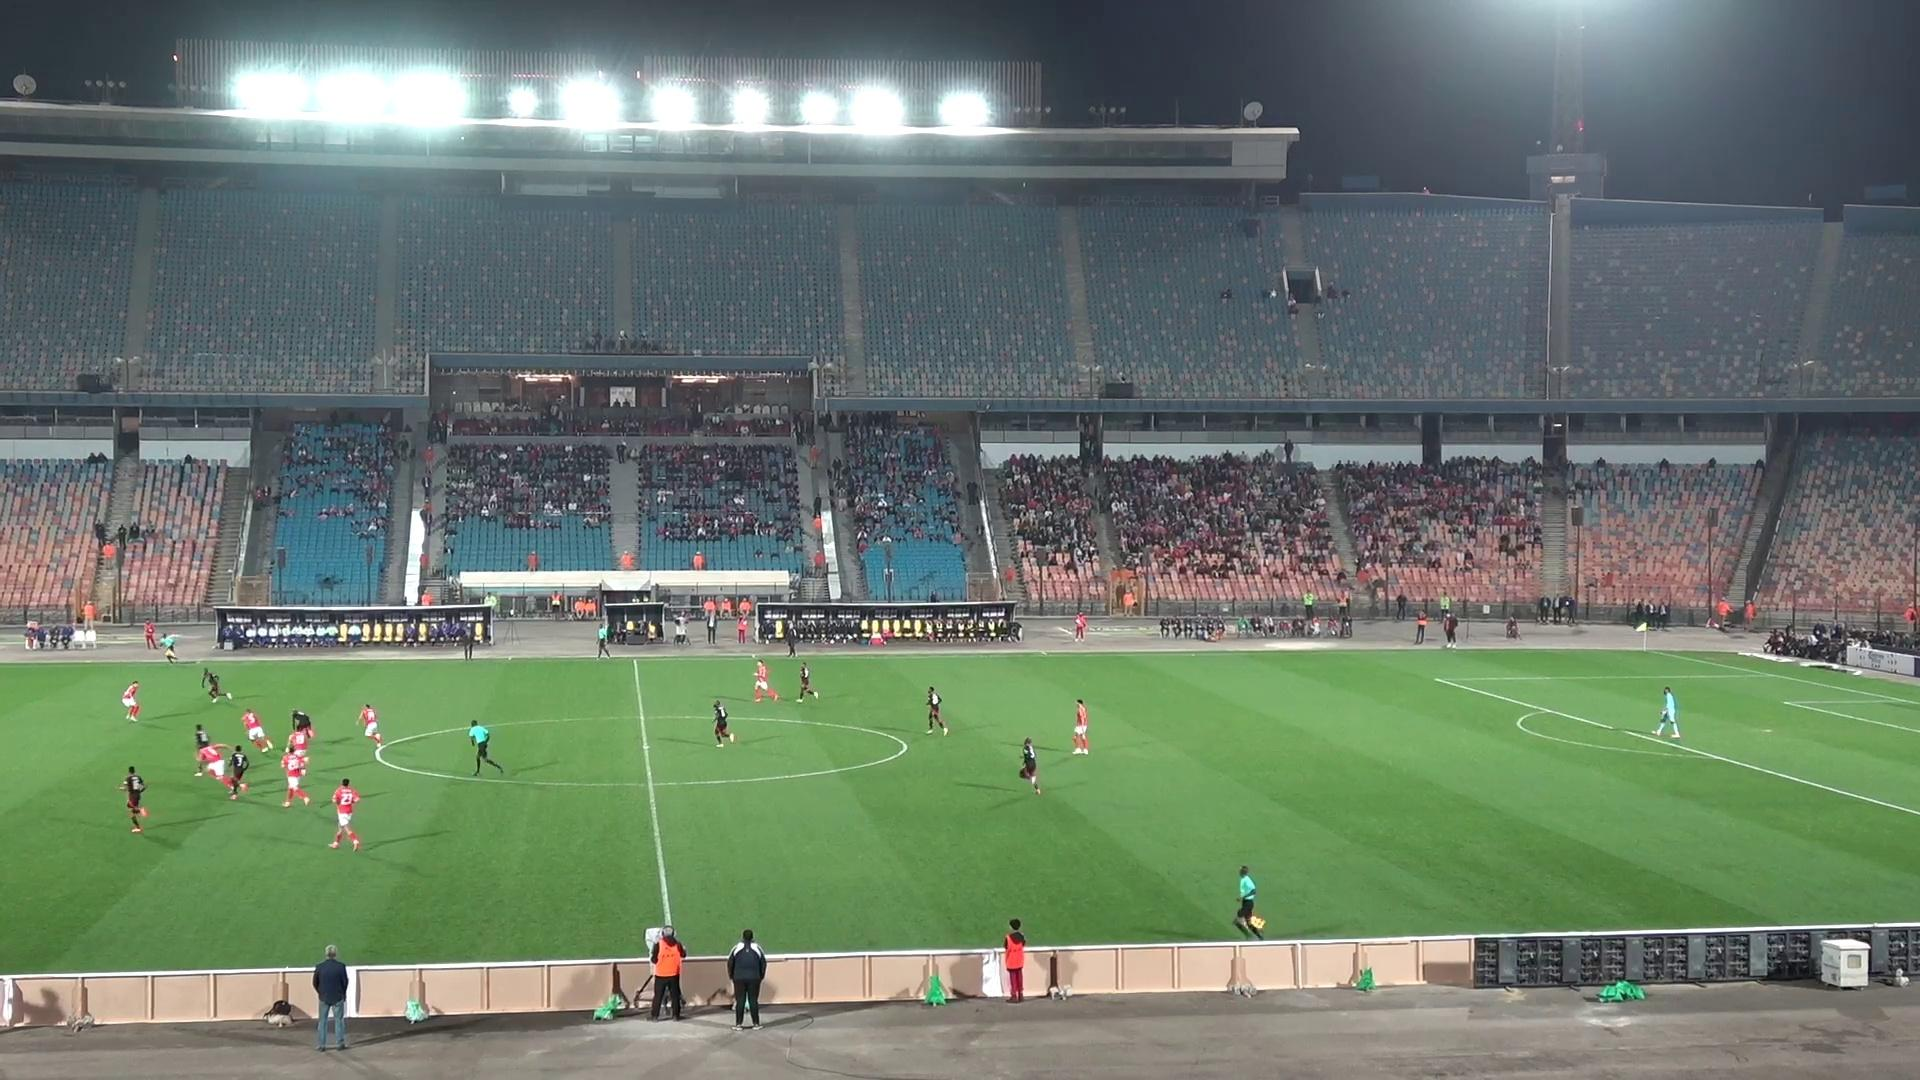GK2: (1652, 687, 1681, 740)
Refree: (1232, 865, 1265, 938), (467, 720, 504, 775), (146, 634, 182, 663), (595, 615, 611, 657)
Team1: (328, 779, 363, 851), (281, 744, 311, 807), (195, 735, 225, 781), (241, 709, 272, 752), (355, 704, 385, 746), (752, 658, 781, 702), (284, 719, 313, 761), (119, 680, 141, 723), (1072, 700, 1089, 754)
Team2: (206, 744, 251, 800), (119, 766, 149, 833), (1018, 737, 1042, 794), (924, 686, 948, 733), (200, 667, 232, 702), (713, 698, 735, 745), (796, 661, 818, 700), (193, 723, 222, 750), (291, 709, 313, 736)
